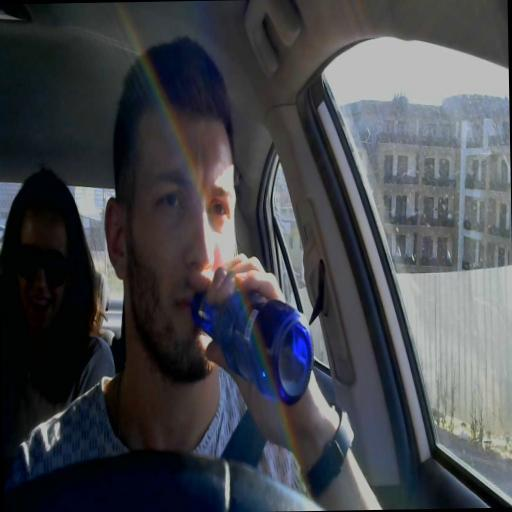Drinking: (105, 104, 312, 404)
